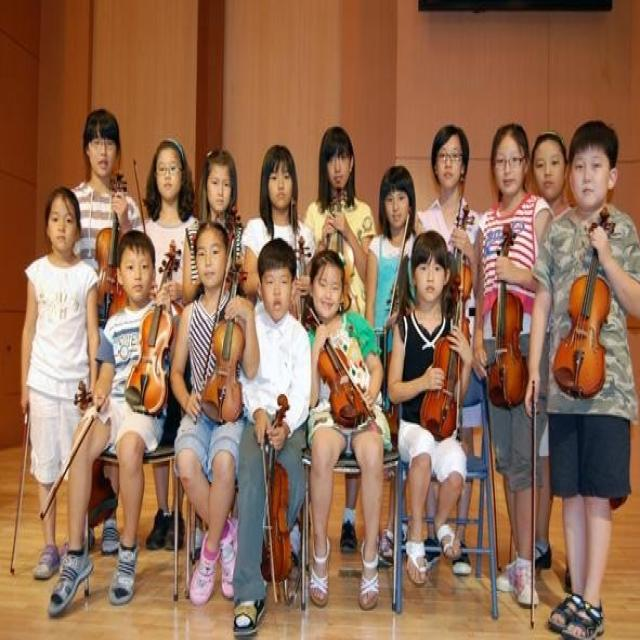violin: (553, 204, 617, 399), (124, 240, 184, 418), (200, 224, 248, 425), (303, 302, 372, 428), (488, 219, 526, 406), (420, 286, 467, 437), (260, 389, 294, 588), (90, 170, 132, 324), (452, 201, 472, 342), (333, 179, 352, 304), (293, 233, 309, 311)
